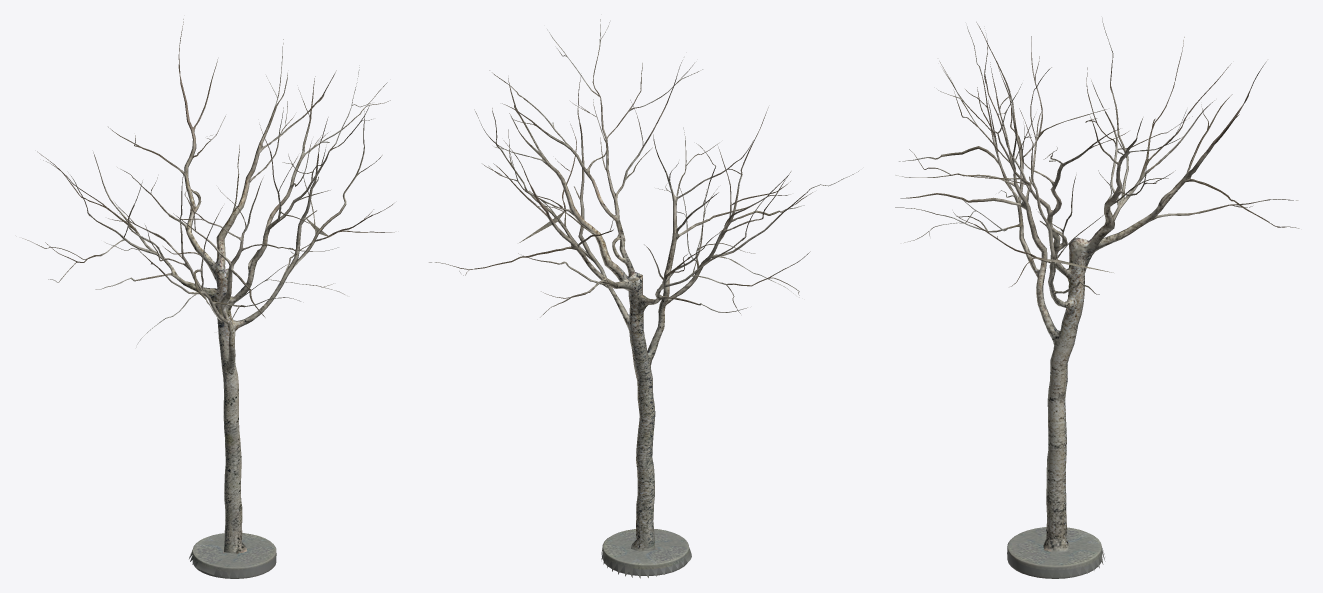
Rendered from bbqsmith_bare_tree.glb.
The picture shows the model from 3 angles, left to right: view 1: azimuth 30°, elevation 25°; view 2: azimuth 150°, elevation 25°; view 3: azimuth 270°, elevation 25°; orthographic projection. The views are drawn at different scales.
Visible parts, largest first — view 1: tripo_node_24ea697d-ec50-49a3-a2e6-bfdf6c1a37f6; view 2: tripo_node_24ea697d-ec50-49a3-a2e6-bfdf6c1a37f6; view 3: tripo_node_24ea697d-ec50-49a3-a2e6-bfdf6c1a37f6.
Boxes of the visible parts, x1,y1,x2,y2 form: tripo_node_24ea697d-ec50-49a3-a2e6-bfdf6c1a37f6: (22, 19, 394, 578); tripo_node_24ea697d-ec50-49a3-a2e6-bfdf6c1a37f6: (429, 19, 859, 578); tripo_node_24ea697d-ec50-49a3-a2e6-bfdf6c1a37f6: (895, 18, 1299, 578).
Bounding box in the file's own units: 0.7241 × 0.9995 × 0.6938.
Materials: 1 (1 with a texture image).
